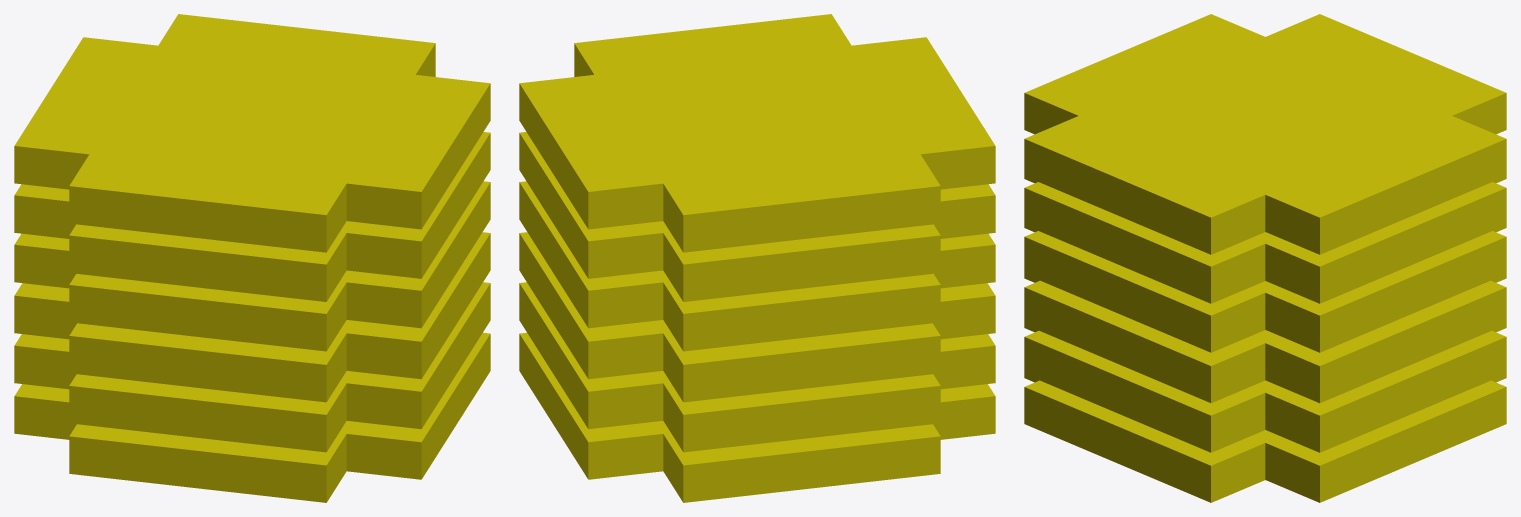
3 views of the same model, side by side, from view 1: azimuth 30°, elevation 25°; view 2: azimuth 150°, elevation 25°; view 3: azimuth 270°, elevation 25° (orthographic).
Visible parts, largest first — view 1: Cylinder; view 2: Cylinder; view 3: Cylinder.
Boxes of the visible parts, left/top/right/bottom form: Cylinder: left=14, top=14, right=490, bottom=502; Cylinder: left=519, top=14, right=995, bottom=502; Cylinder: left=1024, top=14, right=1506, bottom=502.
Size of the model in its own units: 1.17 by 1.17 by 0.7648.
